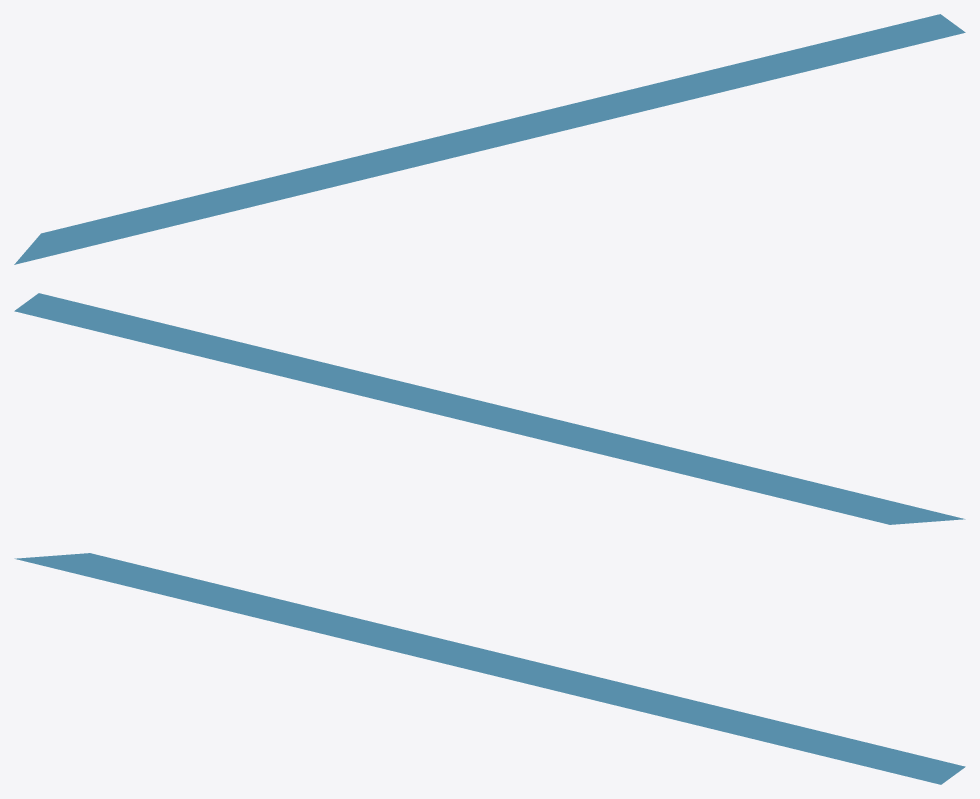
Rendered from canal_water.glb.
3 renders of one model, top to bottom at view 1: azimuth 30°, elevation 25°; view 2: azimuth 150°, elevation 25°; view 3: azimuth 330°, elevation 25°, orthographic. The views are drawn at different scales.
Visible parts, largest first — view 1: canal_water; view 2: canal_water; view 3: canal_water.
Boxes of the visible parts, <box> form: canal_water: <box>14,14,965,264</box>; canal_water: <box>14,293,965,524</box>; canal_water: <box>14,553,965,784</box>.
Bounding box in the file's own units: 112 × 0 × 5.2.
